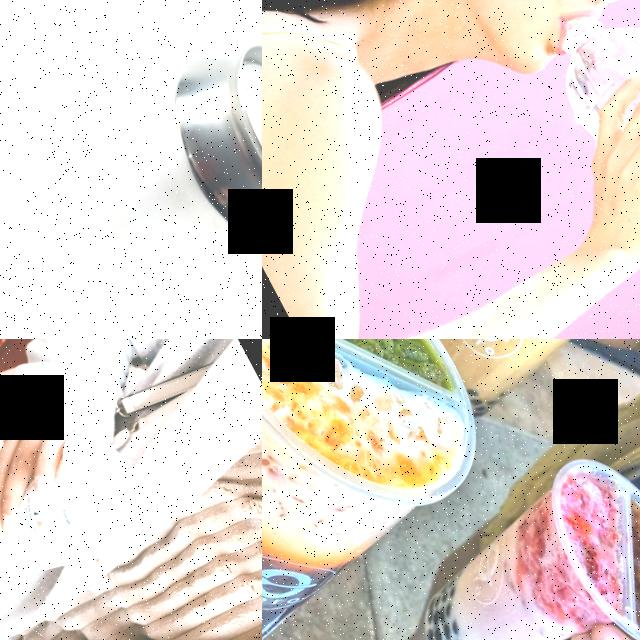bottle: (531, 0, 640, 338)
can: (0, 15, 262, 339)
cup: (262, 339, 531, 640), (381, 435, 640, 640), (0, 416, 170, 609), (348, 339, 640, 429)
